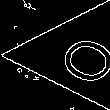O_NW: (35, 24, 110, 86)
